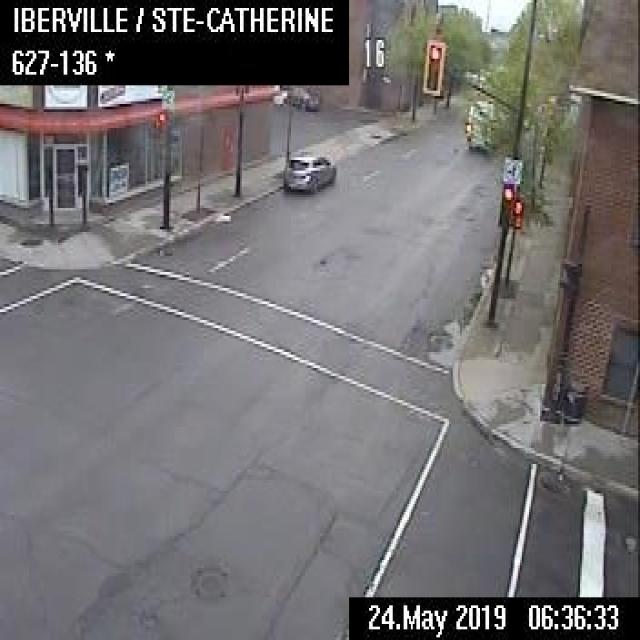bus: (464, 96, 496, 150)
vehicle: (284, 150, 334, 190), (280, 85, 320, 109)
